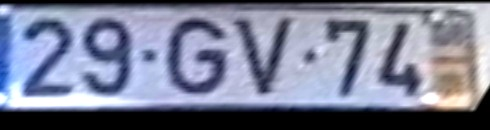2: (16, 15, 77, 101)
4: (374, 20, 427, 102)
7: (321, 17, 375, 103)
9: (76, 15, 134, 102)
G: (163, 15, 230, 102)
V: (231, 16, 302, 101)
